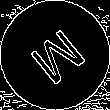M_SE: (21, 21, 89, 89)
